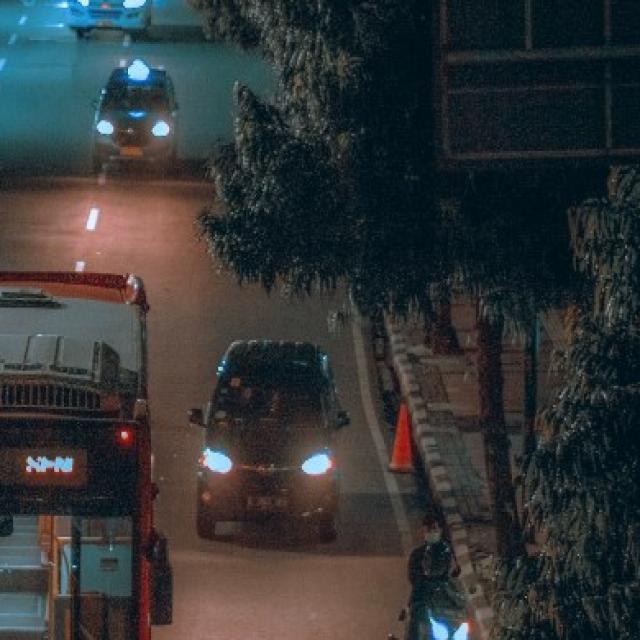bus: (0, 263, 170, 640)
car: (187, 331, 350, 548), (87, 57, 184, 178)
motorbike: (389, 516, 473, 640)
